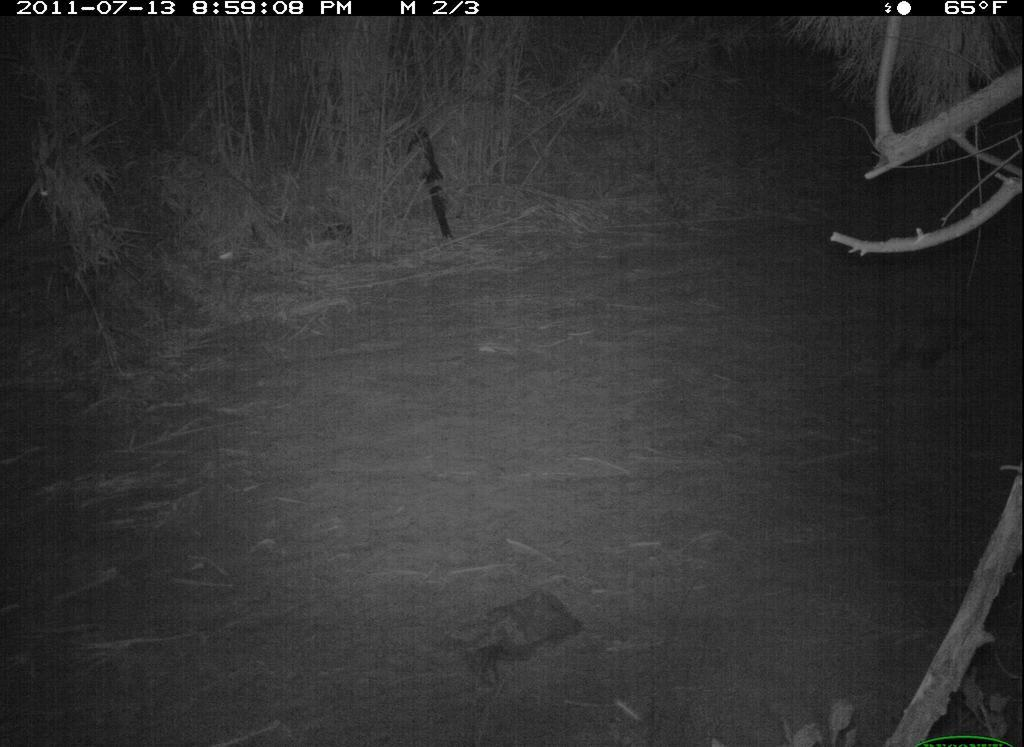opossum: (871, 304, 999, 390)
